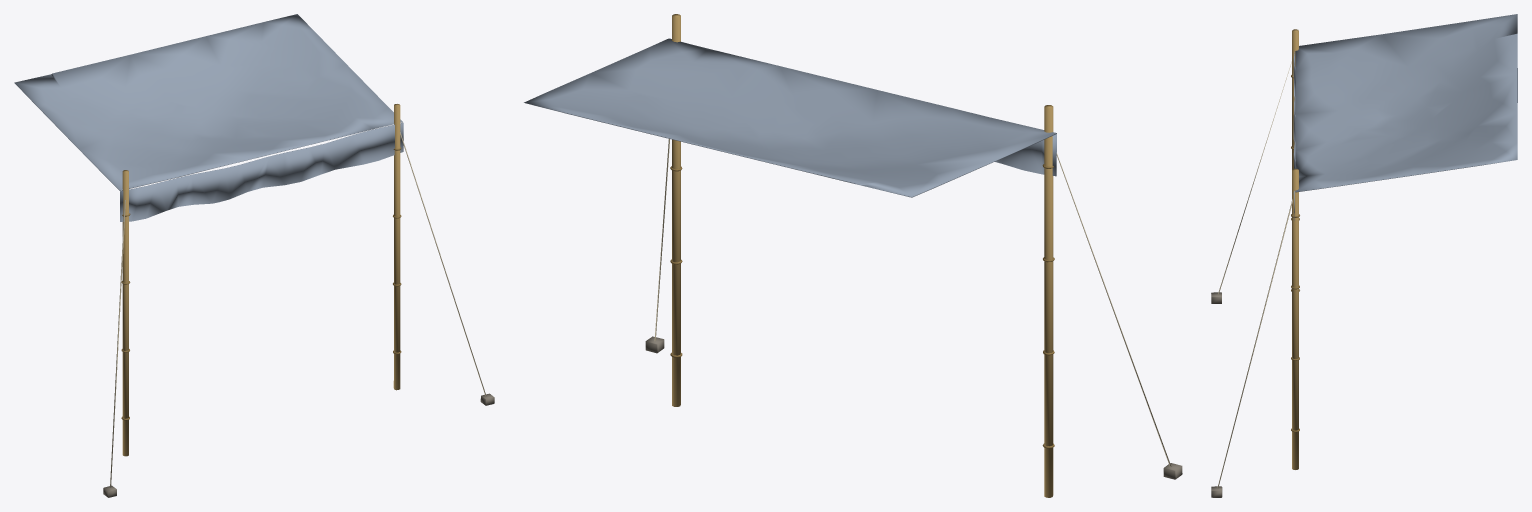
The model's file is bat_sap_bao.glb.
3 views of the same model, side by side, from view 1: azimuth 30°, elevation 25°; view 2: azimuth 150°, elevation 25°; view 3: azimuth 270°, elevation 25° (orthographic). The views are drawn at different scales.
Parts seen in each view (by area): view 1: bat_sap_bao; view 2: bat_sap_bao; view 3: bat_sap_bao.
Boxes of the visible parts, x1,y1,x2,y2 form: bat_sap_bao: (14,14,494,497); bat_sap_bao: (524,14,1182,497); bat_sap_bao: (1211,14,1517,497).
Size of the model in its own units: 3.28 by 2.4 by 2.14.
